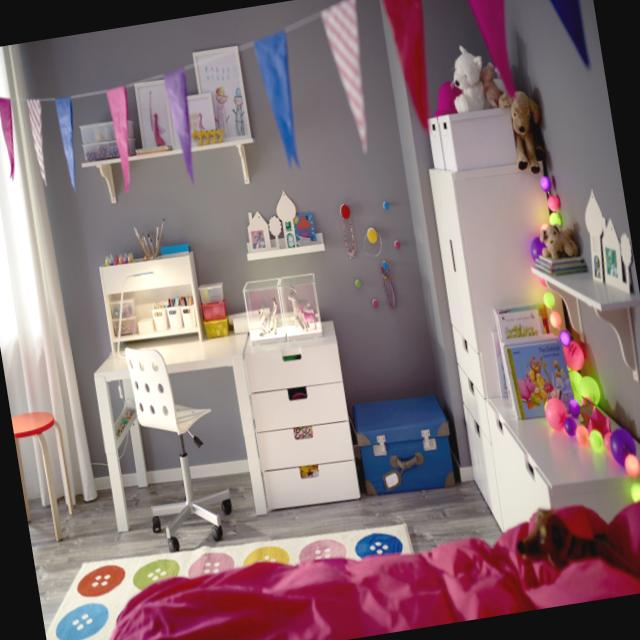obstacle: (417, 126, 640, 529), (81, 489, 640, 640), (85, 296, 365, 539), (120, 332, 243, 558), (350, 382, 460, 499), (11, 398, 84, 548)
